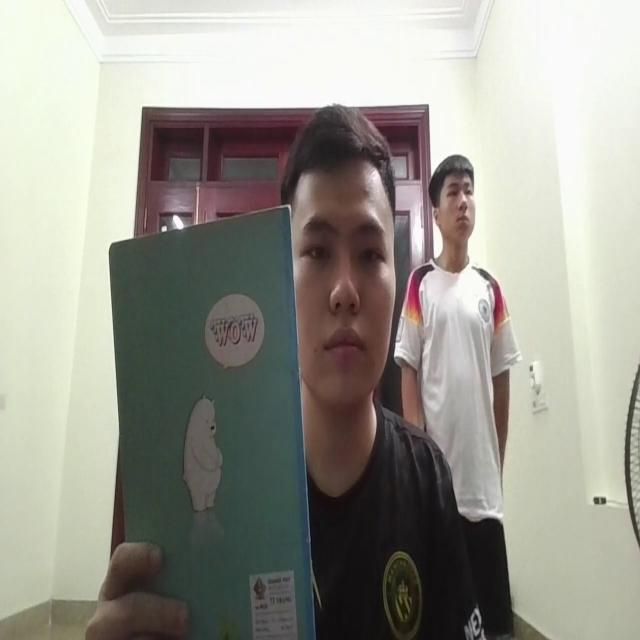book: (106, 204, 307, 640)
extra_person: (403, 145, 513, 582)
student: (278, 99, 421, 640)
